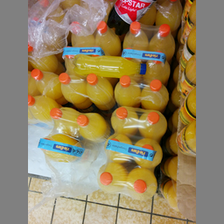juice: (66, 51, 145, 77), (127, 168, 164, 199), (136, 75, 170, 106), (113, 71, 144, 104), (110, 104, 142, 134), (130, 137, 160, 167), (139, 106, 168, 136), (75, 110, 104, 138), (99, 133, 131, 157), (97, 161, 127, 186)
